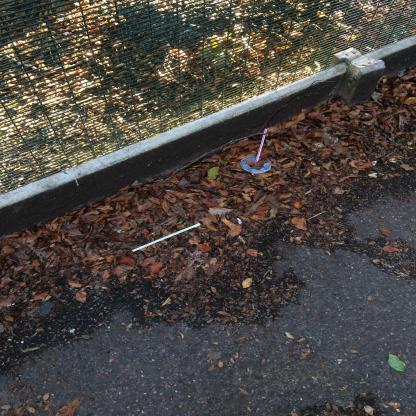plastik: (133, 224, 202, 253), (241, 129, 273, 177)
